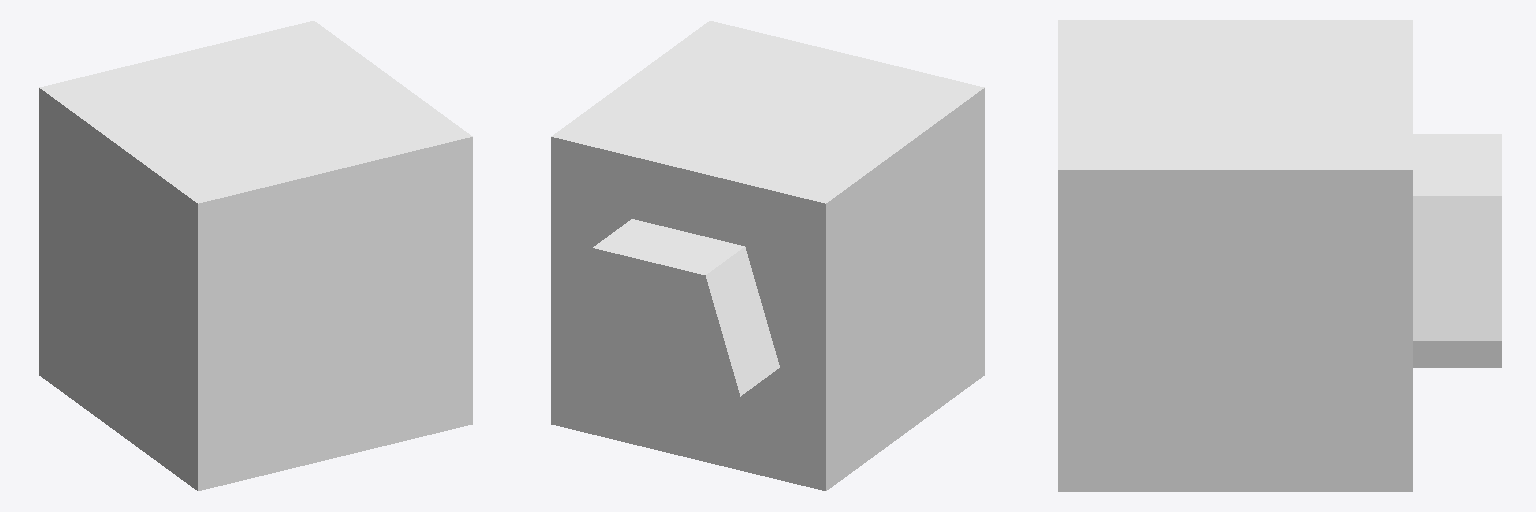
URDF robot description (Pentagon_cube_cap_preprocessed):
<?xml version="1.0" ?>
<robot name="Pentagon_cube_cap_preprocessed">
  <link name="baseLink">
    <contact>
    	<friction_anchor/>
    	   <lateral_friction value="1.0"/>
    </contact>
    <inertial>
      <origin rpy="0 0 0" xyz="0 0 0"/>
       <!-- mass controls penetration -->
       <mass value=".5"/>
       <inertia ixx="1e-4" ixy="0" ixz="0" iyy="1e-4" iyz="0" izz="1e-4"/>
    </inertial>
    <visual>
      <origin rpy="0 0 0" xyz="0 0 0"/>
      <geometry>
        <mesh filename="Pentagon_cube_cap_preprocessed.obj"/>
      </geometry>
       <material name="white">
        <color rgba="1 1 1 1"/>
      </material>
    </visual>
    <collision>
      <origin rpy="0 0 0" xyz="0 0 0"/>
      <geometry>
        <mesh filename="Pentagon_cube_cap_preprocessed.obj"/>
      </geometry>
    </collision>
  </link>
</robot>

--- Render facts (derived) ---
The picture shows the robot from 3 angles, left to right: view 1: azimuth 30°, elevation 25°; view 2: azimuth 150°, elevation 25°; view 3: azimuth 270°, elevation 25°; orthographic projection.
Model Pentagon_cube_cap_preprocessed with 1 links and 0 joints (none), rooted at baseLink, posed all joints at 0.
Visible links, largest first — view 1: baseLink; view 2: baseLink; view 3: baseLink.
Link boxes in pixels (x1=…): baseLink: x1=39, y1=21, x2=472, y2=490; baseLink: x1=551, y1=21, x2=984, y2=490; baseLink: x1=1058, y1=20, x2=1501, y2=491.
Bounding box of the posed robot: 0.08 × 0.1 × 0.08 m (x, y, z).
Meshes: 1 distinct files referenced, 1 mesh visuals loaded (1 OBJ).